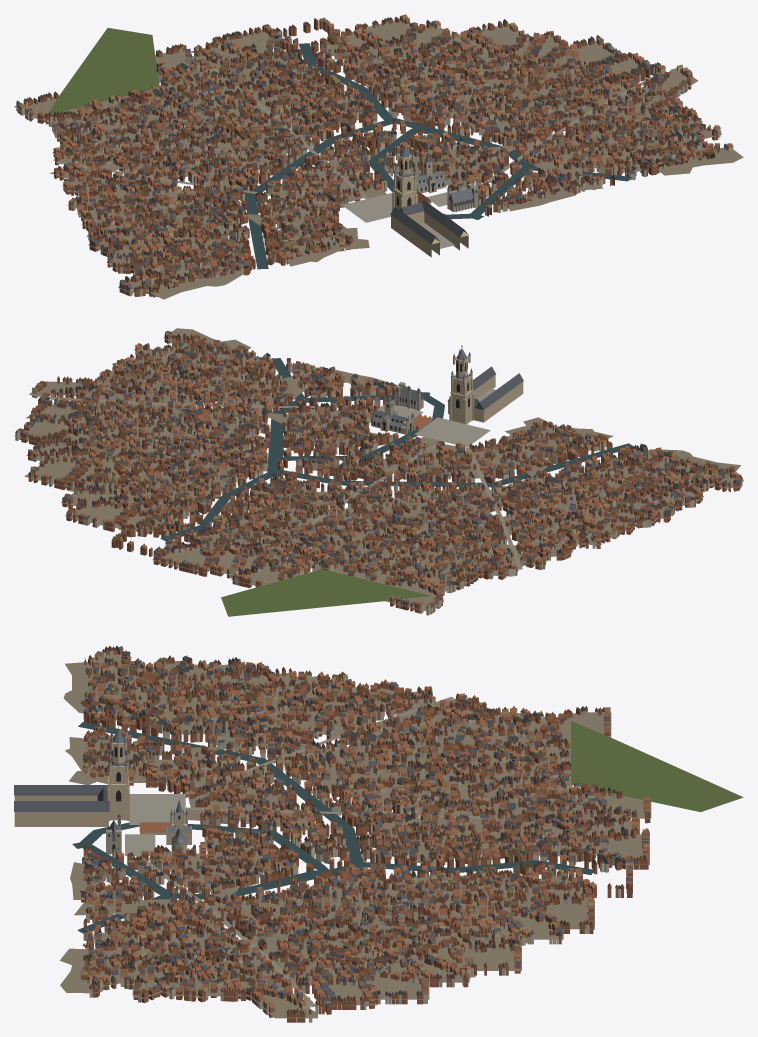
The model's file is bruges_siege.glb.
3 renders of one model, top to bottom at view 1: azimuth 30°, elevation 25°; view 2: azimuth 150°, elevation 25°; view 3: azimuth 270°, elevation 25°, orthographic. The views are drawn at different scales.
Parts seen in each view (by area): view 1: houses, ground, landmarks; view 2: houses, ground, landmarks; view 3: houses, ground, landmarks.
Boxes of the visible parts, x1=… form: houses: x1=16, y1=14, x2=733, y2=297; ground: x1=14, y1=20, x2=743, y2=299; landmarks: x1=390, y1=141, x2=478, y2=257; houses: x1=15, y1=330, x2=742, y2=615; ground: x1=14, y1=328, x2=743, y2=616; landmarks: x1=371, y1=345, x2=523, y2=434; houses: x1=80, y1=645, x2=650, y2=1022; ground: x1=60, y1=653, x2=743, y2=1018; landmarks: x1=14, y1=725, x2=191, y2=854.
Bounding box in the file's own units: 2006 × 239 × 1687.
